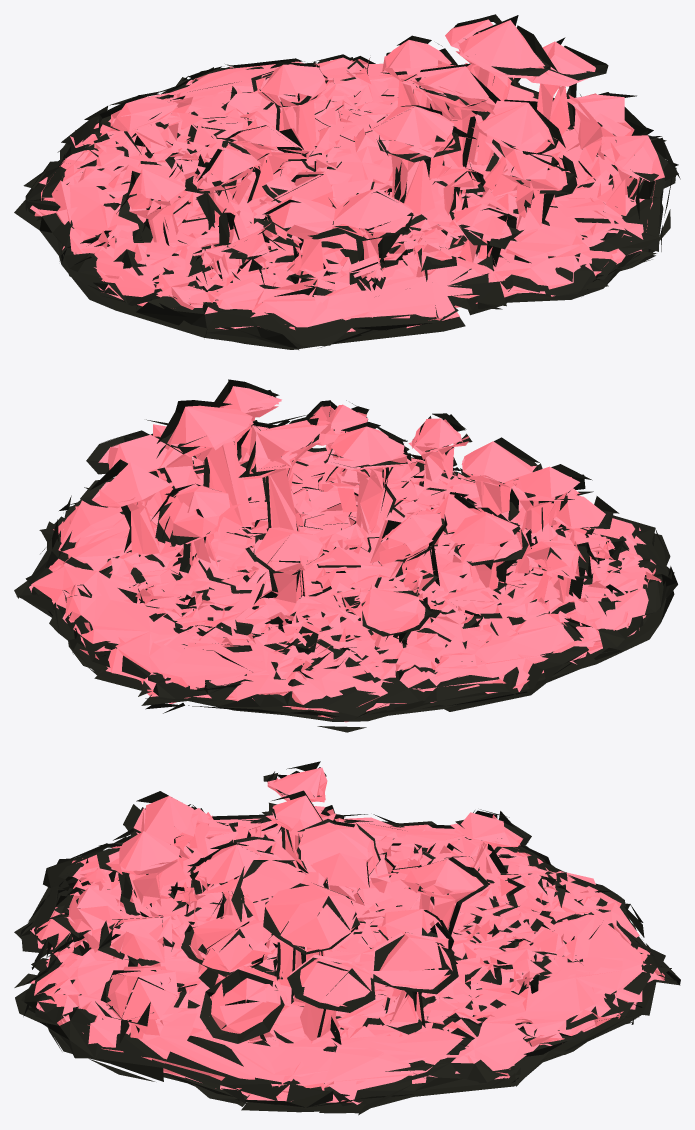
Rendered from df_v2_mushroom_cluster_small_c_a.glb.
The picture shows the model from 3 angles, top to bottom: view 1: azimuth 30°, elevation 25°; view 2: azimuth 150°, elevation 25°; view 3: azimuth 270°, elevation 25°; orthographic projection. The views are drawn at different scales.
Visible parts, largest first — view 1: mushroom_cluster_small_c_mesh_01, mushroom_cluster_small_c_mesh_01_ink_outline; view 2: mushroom_cluster_small_c_mesh_01, mushroom_cluster_small_c_mesh_01_ink_outline; view 3: mushroom_cluster_small_c_mesh_01, mushroom_cluster_small_c_mesh_01_ink_outline.
Part boxes in pixels (x1,y1,x2,y2): mushroom_cluster_small_c_mesh_01: (30,19,664,332); mushroom_cluster_small_c_mesh_01_ink_outline: (14,14,680,349); mushroom_cluster_small_c_mesh_01: (29,386,661,722); mushroom_cluster_small_c_mesh_01_ink_outline: (14,379,677,732); mushroom_cluster_small_c_mesh_01: (30,767,664,1104); mushroom_cluster_small_c_mesh_01_ink_outline: (14,761,680,1115).
Size of the model in its own units: 0.7341 by 0.1936 by 0.7085.
